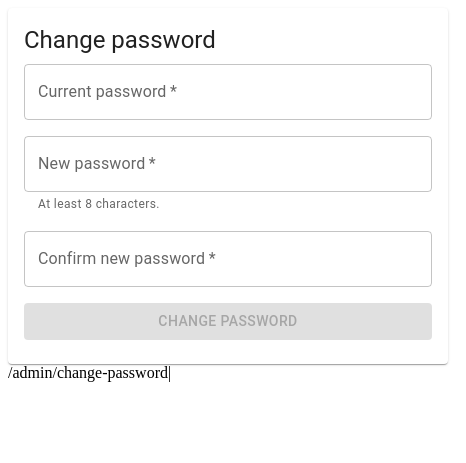
Scenario: ChangePasswordPage › refuses to submit when the two new passwords differ
Step 1. Type "correct horse battery staple" into the password field labelled "Current password *" → (228, 92), box [24, 64, 432, 120]
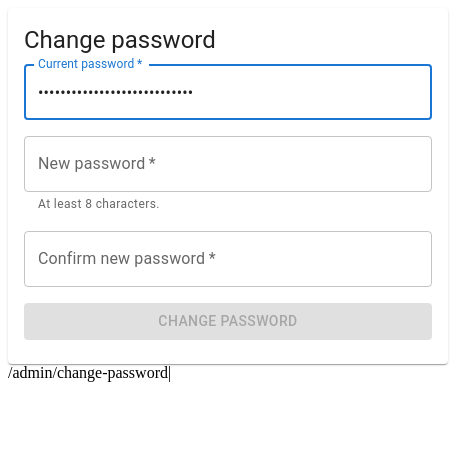
Step 2. Type "staple battery horse correct" into the password field labelled "New password *" → (228, 164), box [24, 136, 432, 192]
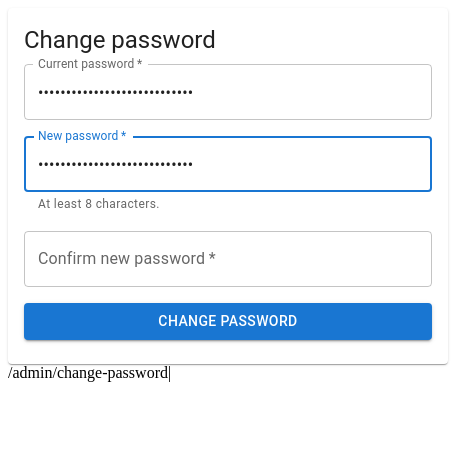
Step 3. Type "something else entirely" into the password field labelled "Confirm new password *" → (228, 259), box [24, 231, 432, 287]
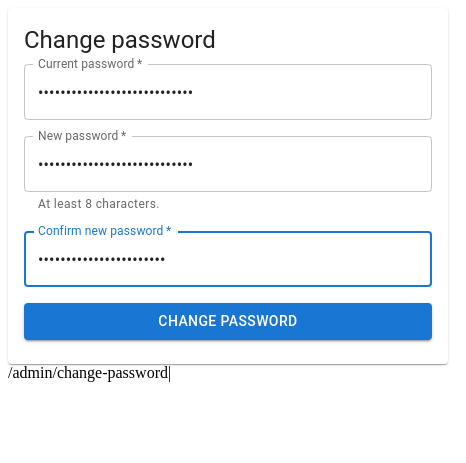
Step 4. Click the button "Change password" → (228, 322), box [24, 303, 432, 340]
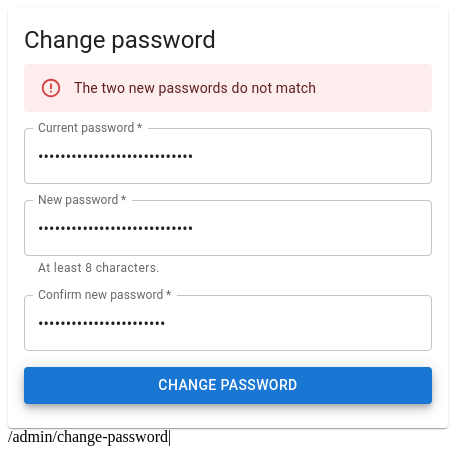
Check: the message shows "do not match", box [74, 80, 316, 96]
